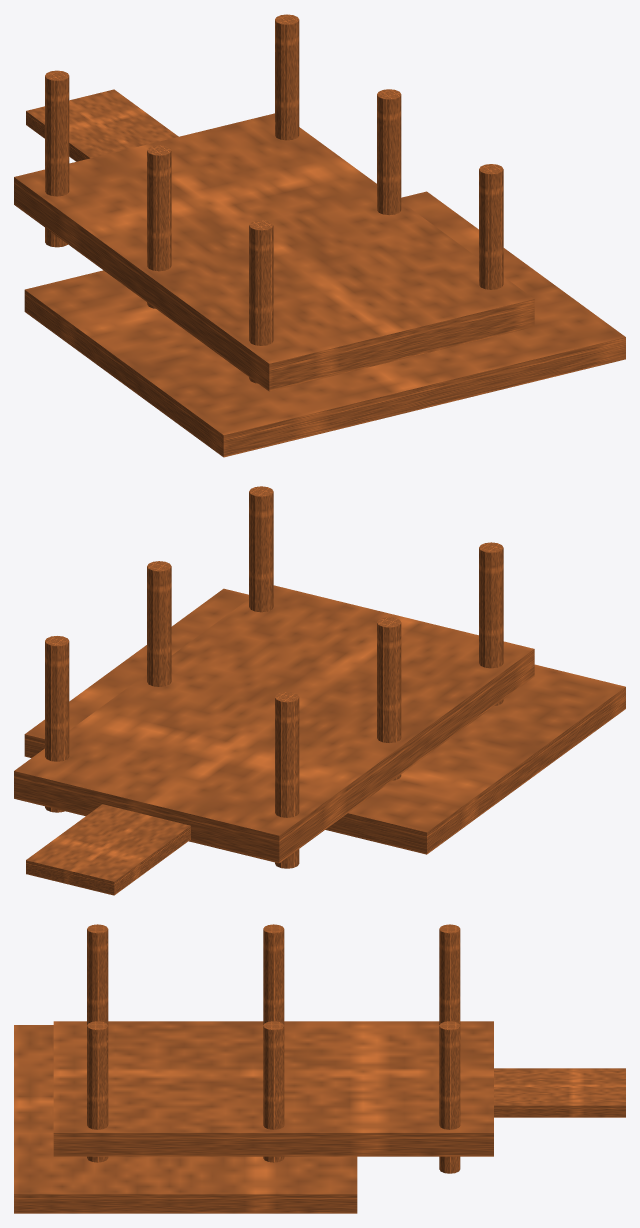
The model's file is ferry_dock_02.glb.
The picture shows the model from 3 angles, top to bottom: view 1: azimuth 30°, elevation 25°; view 2: azimuth 150°, elevation 25°; view 3: azimuth 270°, elevation 25°; orthographic projection. The views are drawn at different scales.
Parts seen in each view (by area): view 1: Dock, Foundation, Gangway, Mooring.002, Mooring.001, Mooring, Mooring.005, Mooring.004, Mooring.003; view 2: Dock, Foundation, Gangway, Mooring.002, Mooring.005, Mooring, Mooring.001, Mooring.003, Mooring.004; view 3: Dock, Foundation, Gangway, Mooring.005, Mooring.004, Mooring.003, Mooring, Mooring.002, Mooring.001.
Part boxes in pixels (box(x1,y1,x2,y2)): Dock: box(14, 113, 534, 391); Foundation: box(24, 191, 625, 457); Gangway: box(26, 89, 178, 161); Mooring.002: box(45, 70, 69, 247); Mooring.001: box(147, 145, 171, 308); Mooring: box(249, 220, 273, 383); Mooring.005: box(275, 14, 299, 140); Mooring.004: box(377, 89, 401, 215); Mooring.003: box(479, 164, 503, 289); Dock: box(14, 585, 534, 863); Foundation: box(24, 588, 625, 854); Gangway: box(26, 804, 190, 895); Mooring.002: box(275, 692, 299, 868); Mooring.005: box(45, 636, 69, 812); Mooring: box(479, 542, 503, 705); Mooring.001: box(377, 617, 401, 780); Mooring.003: box(249, 486, 273, 612); Mooring.004: box(147, 561, 171, 686); Dock: box(53, 1021, 493, 1156); Foundation: box(14, 1025, 357, 1213); Gangway: box(494, 1068, 625, 1117); Mooring.005: box(439, 1021, 460, 1173); Mooring.004: box(263, 1021, 284, 1162); Mooring.003: box(87, 1021, 108, 1162); Mooring: box(87, 924, 108, 1025); Mooring.002: box(439, 924, 460, 1024); Mooring.001: box(263, 924, 284, 1024).
Bounding box in the file's own units: 4.55 × 1.9 × 6.95.
1 material, 1 textured.
